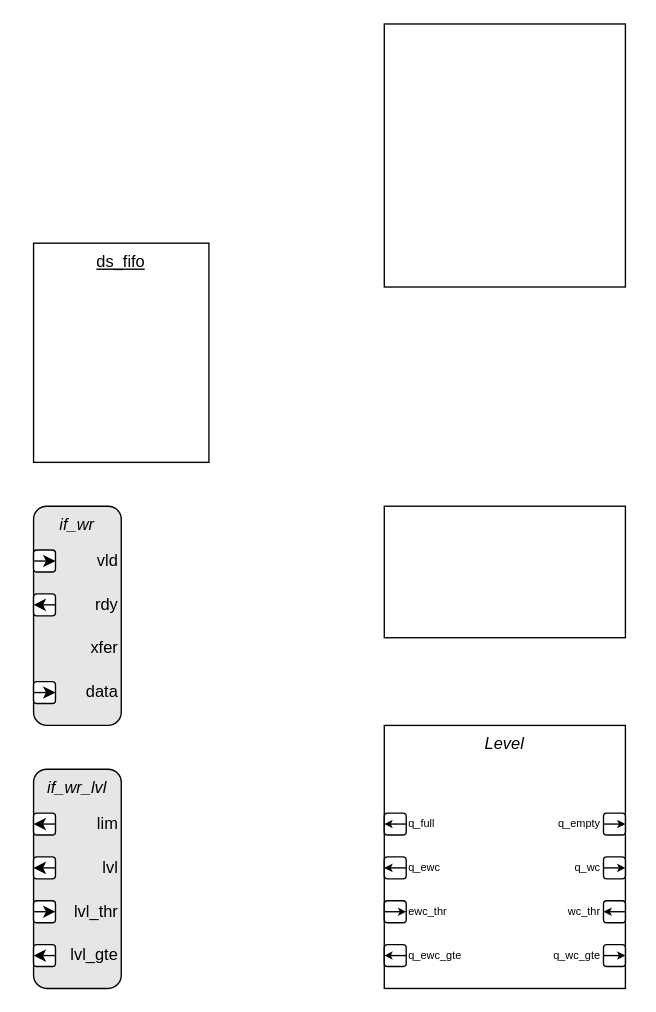
Image size: 656x1012. Some labels were removed from this diagram. Each missing label, with the box of its shape:
Data Path: (383, 23, 625, 287)
Handshake: (383, 505, 625, 638)
